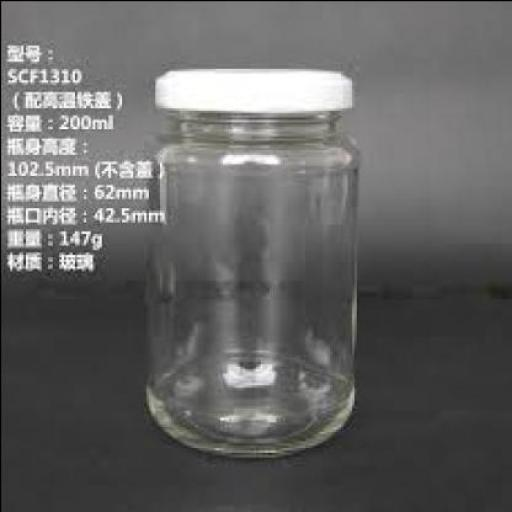glass: (145, 110, 353, 452)
metal: (152, 65, 349, 112)
